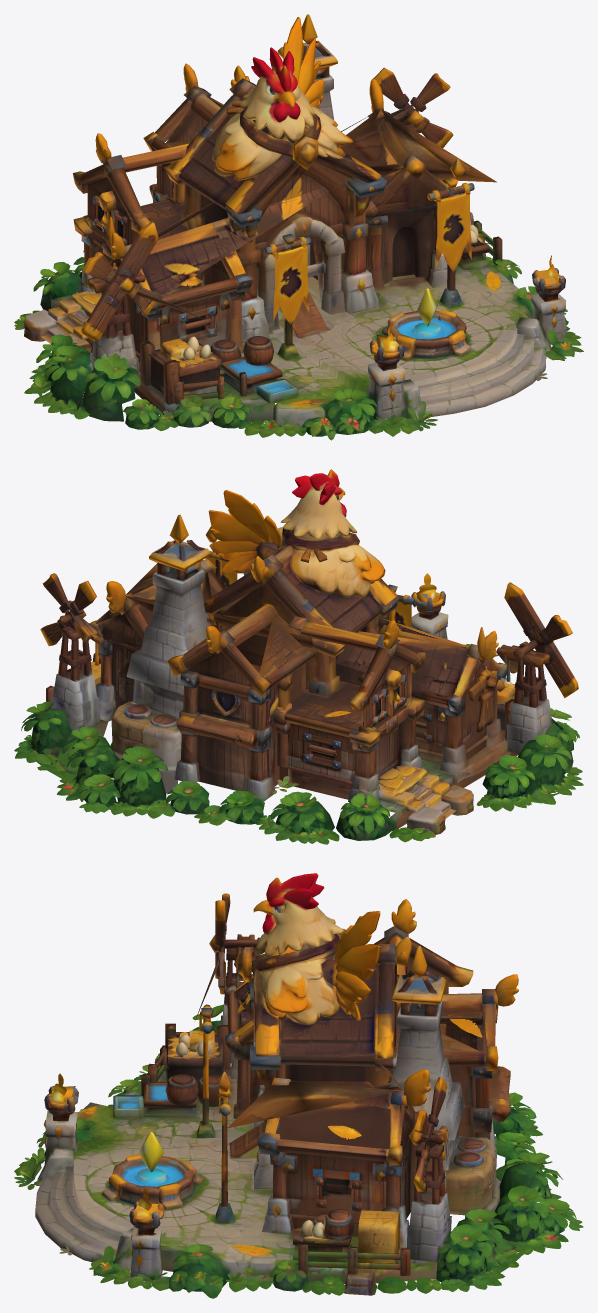
The model's file is Base-Amarela.fbx.
3 views of the same model, one above another, from view 1: azimuth 30°, elevation 25°; view 2: azimuth 150°, elevation 25°; view 3: azimuth 270°, elevation 25° (orthographic). The views are drawn at different scales.
Parts seen in each view (by area): view 1: tripo_node_5444bd2b; view 2: tripo_node_5444bd2b; view 3: tripo_node_5444bd2b.
Part boxes in pixels (x1,y1,x2,y2): tripo_node_5444bd2b: (14, 14, 583, 440); tripo_node_5444bd2b: (14, 469, 583, 844); tripo_node_5444bd2b: (14, 873, 583, 1298).
Size of the model in its own units: 0.9995 by 0.5513 by 0.9458.
